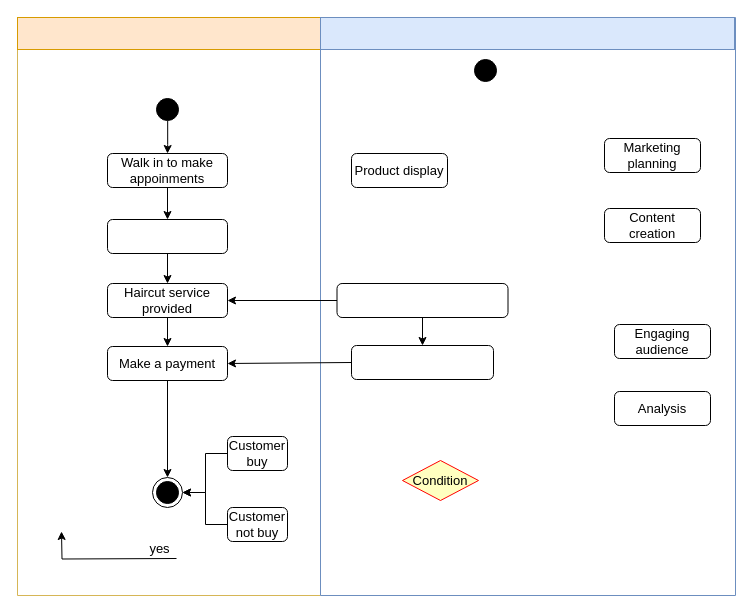
This 753x613 diagram has some shape labels left out. The shapes that lost their labels are listed below. From the top down, each one's centre as x and y in pixels, then its label:
At (168,33): "CUSTOMER".
At (527,33): "STAFF".
At (167,236): "Wait at the waiting area provided".
At (422,300): "Provide haircut service based on customer's booking".
At (422,362): "Assist and accept payment from customer".
